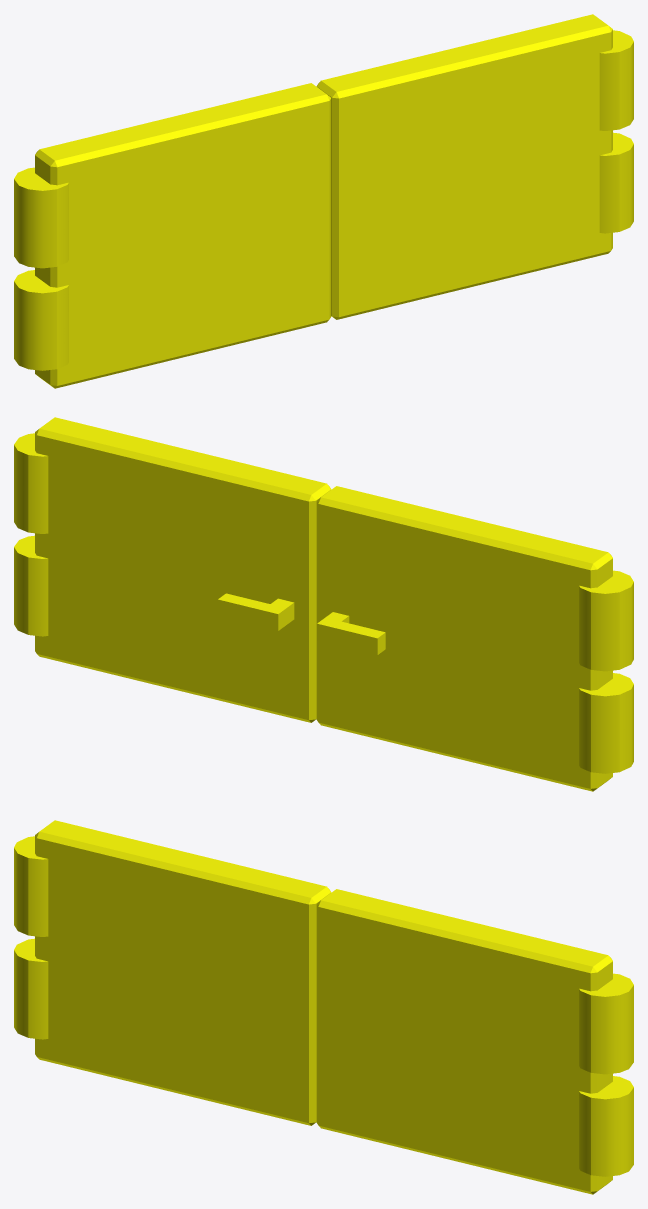
The picture shows the model from 3 angles, top to bottom: view 1: azimuth 30°, elevation 25°; view 2: azimuth 150°, elevation 25°; view 3: azimuth 330°, elevation 25°; orthographic projection.
Visible parts, largest first — view 1: ExitDoor_L, ExitDoor_R; view 2: ExitDoor_L, ExitDoor_R; view 3: ExitDoor_R, ExitDoor_L.
Part boxes in pixels (x1,y1,x2,y2): ExitDoor_L: [14, 83, 331, 388]; ExitDoor_R: [316, 14, 633, 319]; ExitDoor_L: [316, 486, 633, 791]; ExitDoor_R: [14, 417, 331, 722]; ExitDoor_R: [316, 889, 633, 1194]; ExitDoor_L: [14, 820, 331, 1125].
Bounding box in the file's own units: 0.0415 × 0.0148 × 0.00477.
1 material, 1 textured.
